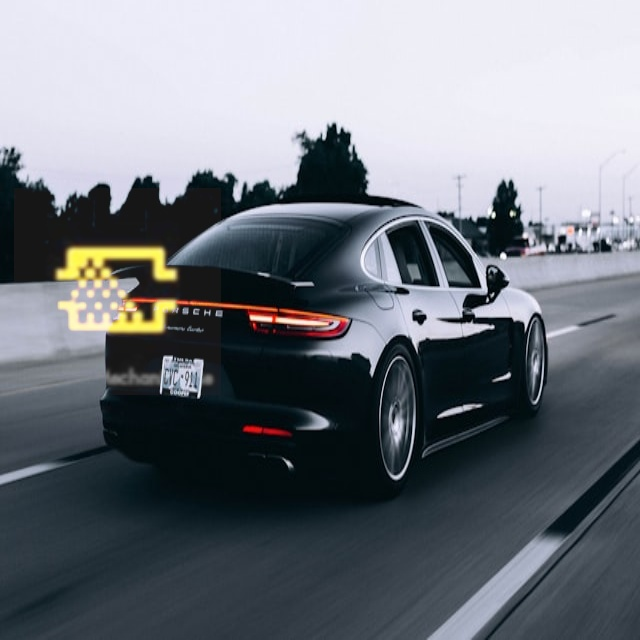symbol: (14, 188, 221, 395)
